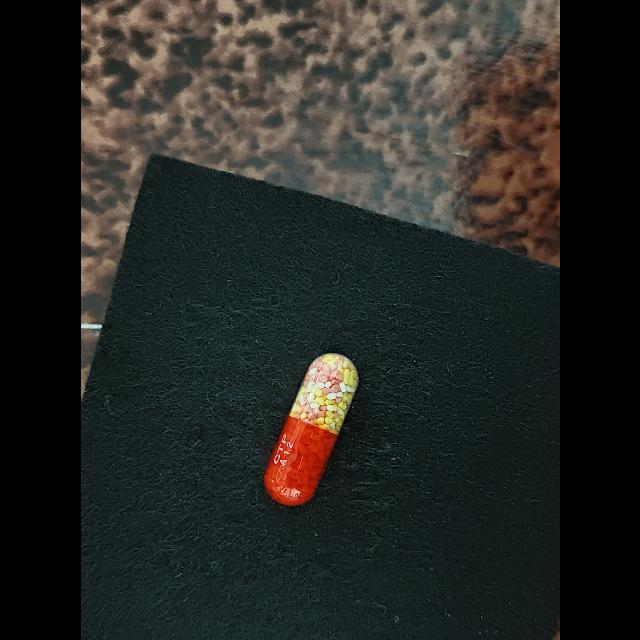Intact Capsule: (263, 353, 358, 506)
